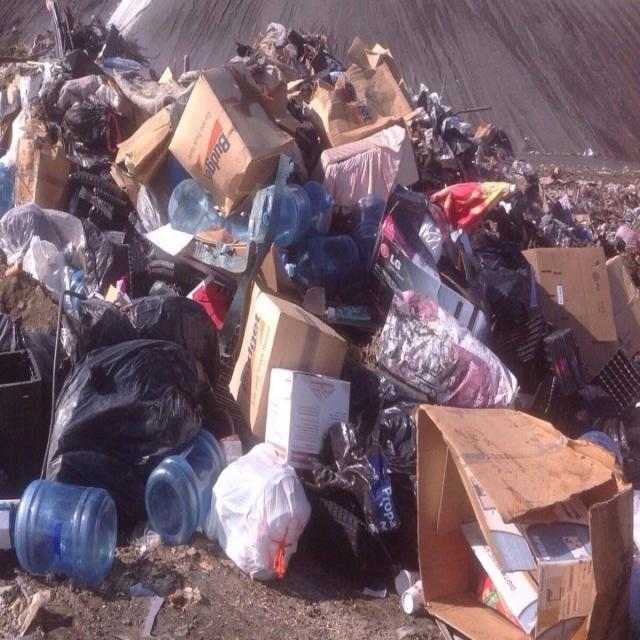cardboard: (407, 405, 612, 640), (524, 240, 626, 361), (190, 67, 275, 183), (329, 42, 412, 146)
plastic: (8, 495, 120, 571), (151, 427, 207, 538)
trash: (10, 10, 155, 236), (305, 248, 490, 382), (65, 297, 204, 427)
